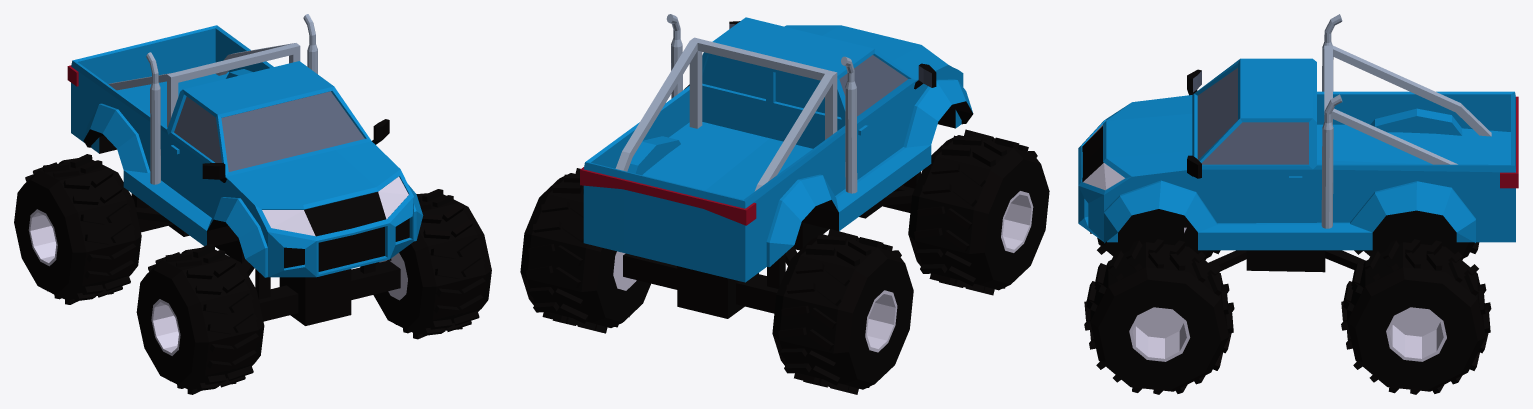
The model's file is monster.glb.
The picture shows the model from 3 angles, left to right: view 1: azimuth 30°, elevation 25°; view 2: azimuth 150°, elevation 25°; view 3: azimuth 270°, elevation 25°; orthographic projection. The views are drawn at different scales.
Parts seen in each view (by area): view 1: Monster Truck, Monster Truck wheel front right, Monster Truck wheel rear right, Monster Truck wheel front left; view 2: Monster Truck, Monster Truck wheel rear right, Monster Truck wheel front right, Monster Truck wheel rear left; view 3: Monster Truck, Monster Truck wheel rear left, Monster Truck wheel front left, Monster Truck wheel rear right, Monster Truck wheel front right.
Boxes of the visible parts, x1,y1,x2,y2 form: Monster Truck: (67,14,423,325); Monster Truck wheel front right: (136,244,264,394); Monster Truck wheel rear right: (14,154,141,304); Monster Truck wheel front left: (373,189,491,339); Monster Truck: (580,14,973,318); Monster Truck wheel rear right: (772,229,913,394); Monster Truck wheel front right: (908,129,1049,295); Monster Truck wheel rear left: (520,168,650,333); Monster Truck: (1078,14,1518,272); Monster Truck wheel rear left: (1341,239,1491,394); Monster Truck wheel front left: (1084,239,1234,394); Monster Truck wheel rear right: (1354,227,1479,260); Monster Truck wheel front right: (1090,227,1220,260).
Bounding box in the file's own units: 4.47 × 3.73 × 5.49.
